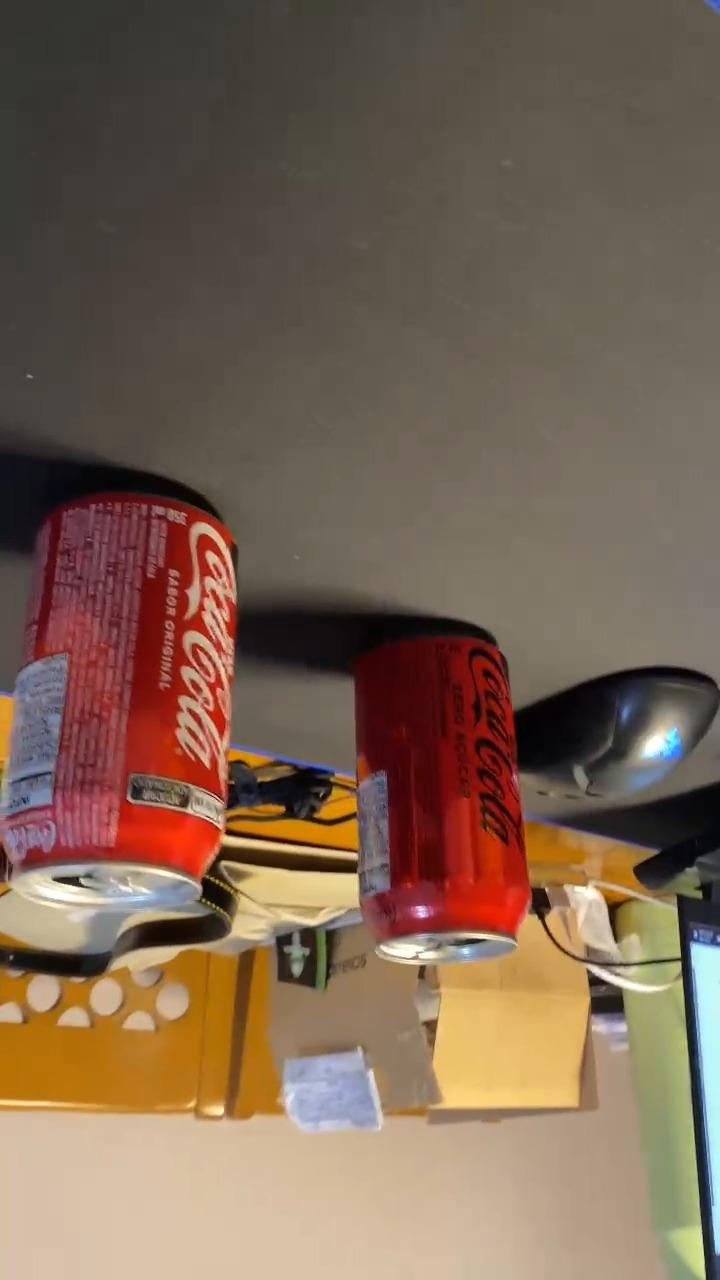coke: (2, 489, 238, 914), (350, 623, 531, 964)
